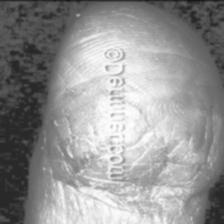Non-Cancerous Skin Condition: (74, 14, 224, 224), (50, 93, 98, 216)
